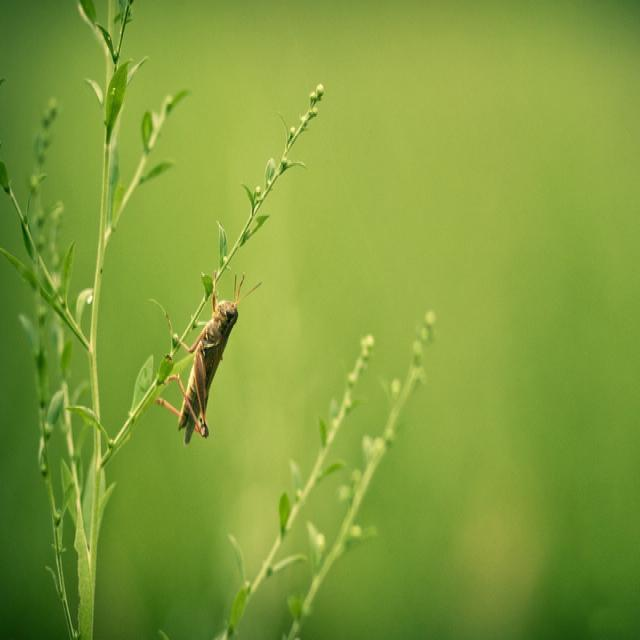ZhaMeng: (163, 257, 262, 453)
